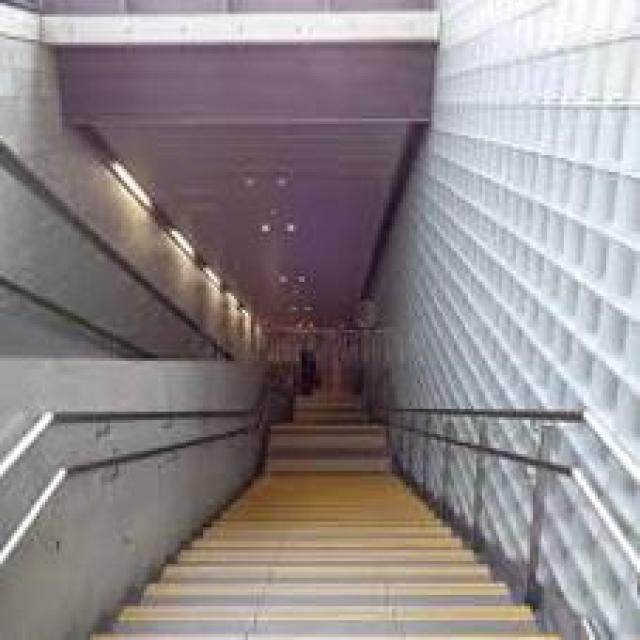downstair: (145, 500, 480, 638)
